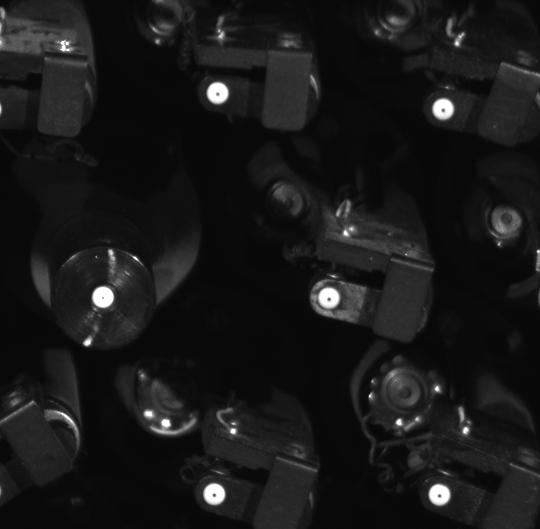fiber: (309, 281, 351, 320), (426, 90, 463, 128), (201, 76, 235, 113), (420, 480, 458, 513), (199, 474, 231, 513), (89, 279, 121, 315)
